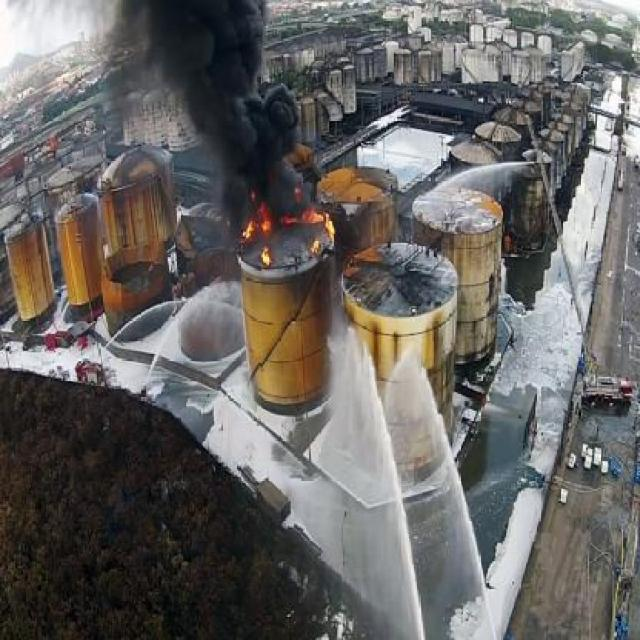Fire: (301, 206, 324, 226), (238, 214, 255, 240), (324, 212, 338, 240), (258, 242, 272, 268), (309, 238, 322, 256), (259, 216, 272, 233)
